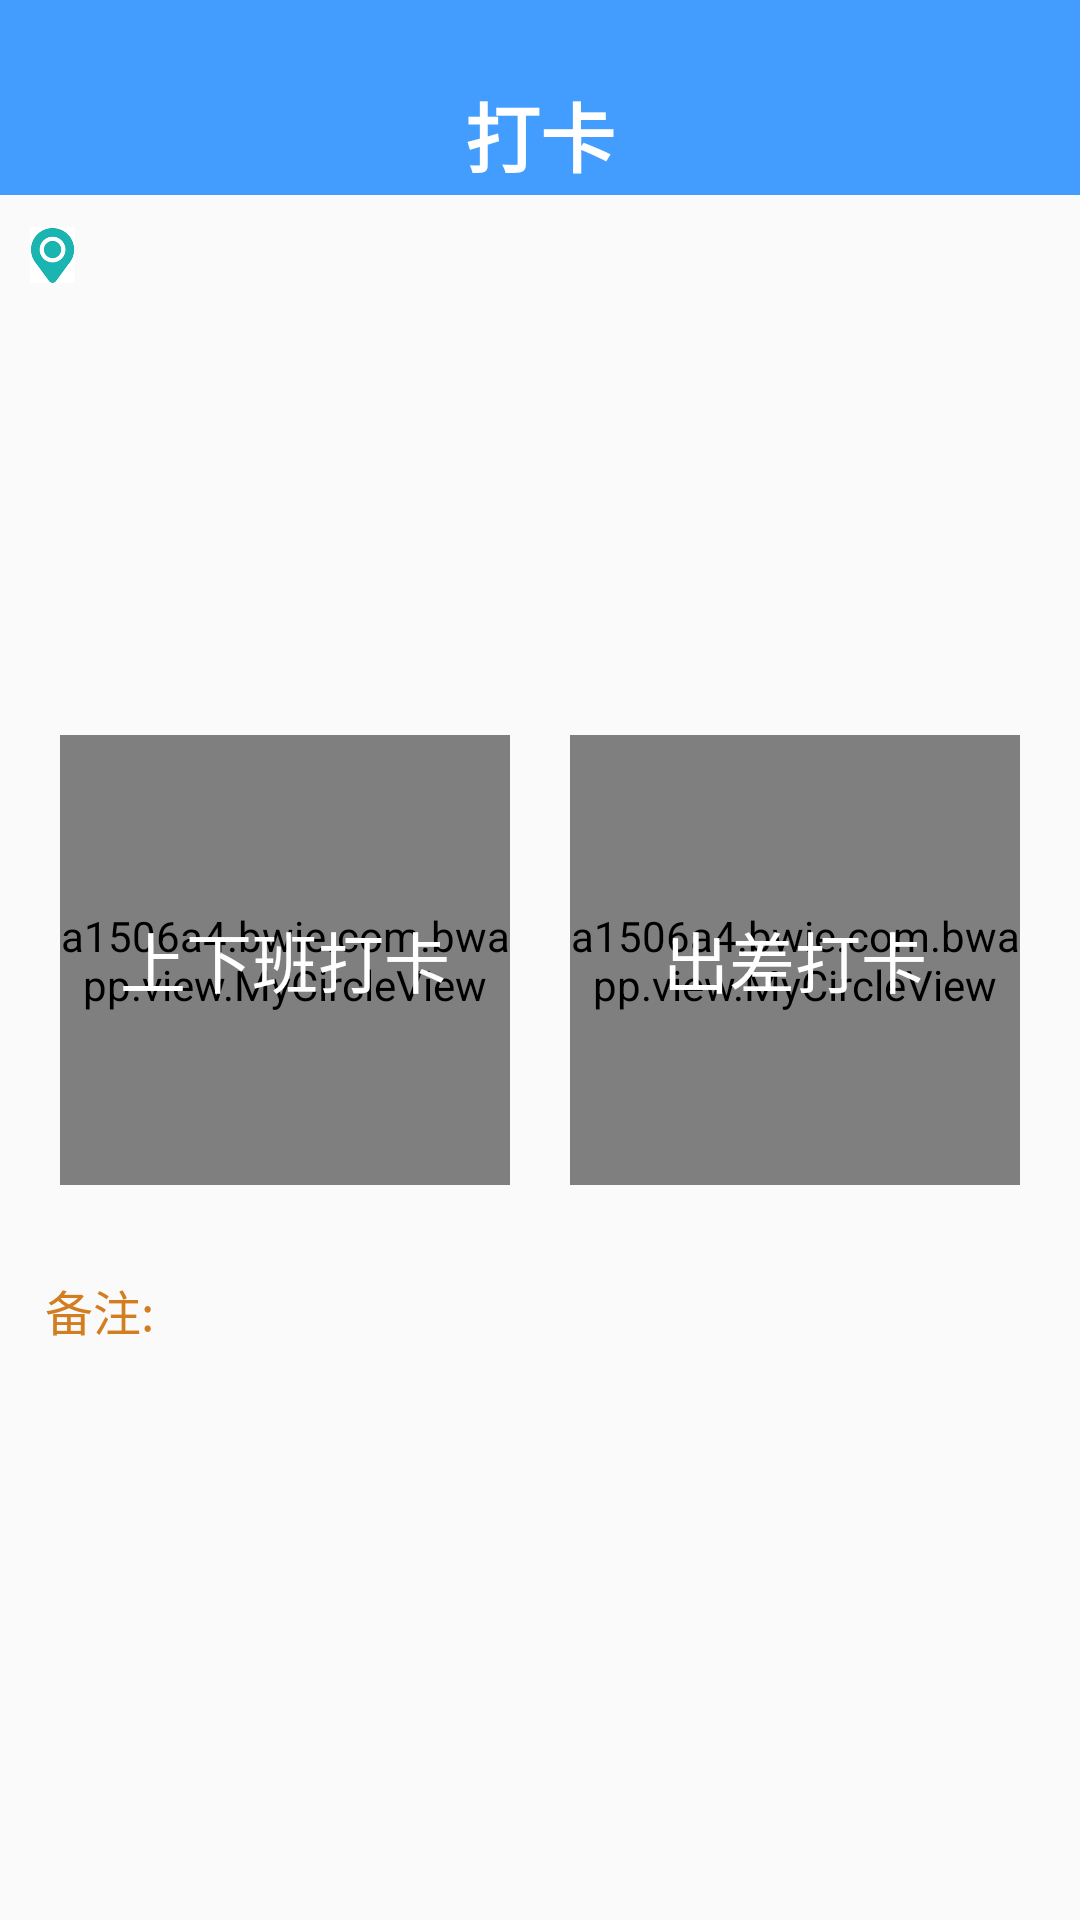

Icon bounding boxes for this 1080 × 1920 phone screenshot, format (x1, y1, x2, y2):
dingwei: (31, 228, 74, 283)
